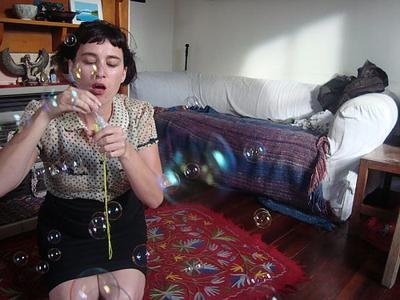person: (4, 22, 166, 298)
